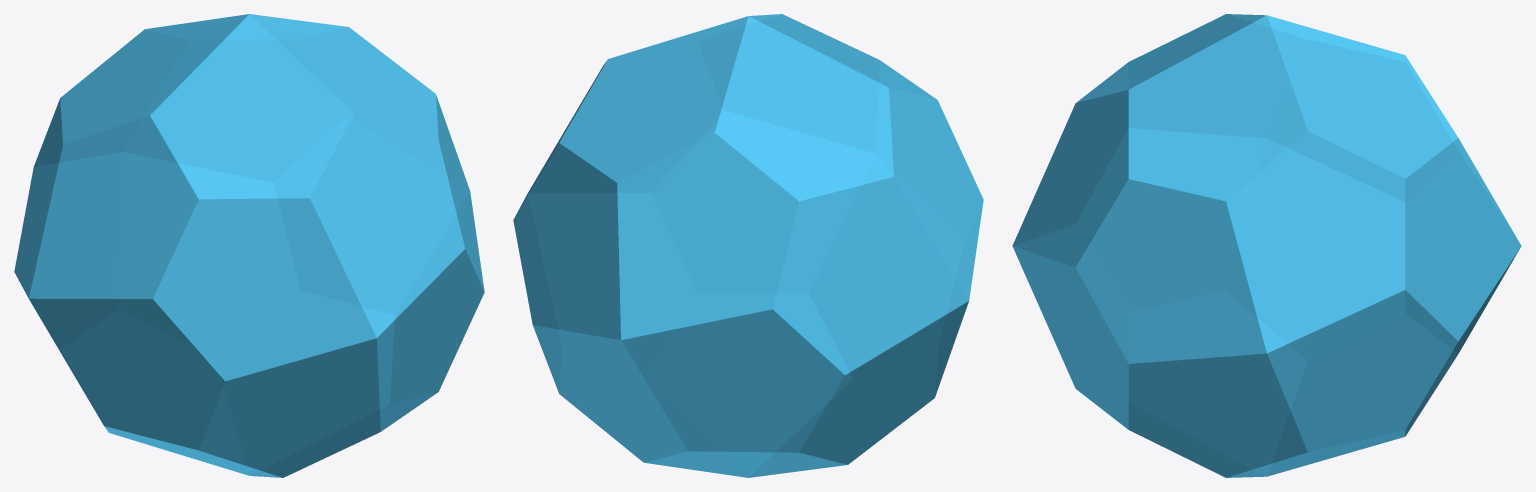
The model's file is PentagonalIcositetrahedron1.obj.
3 views of the same model, side by side, from view 1: azimuth 30°, elevation 25°; view 2: azimuth 150°, elevation 25°; view 3: azimuth 270°, elevation 25° (orthographic).
Bounding box in the file's own units: 2.72 × 2.72 × 2.72.
